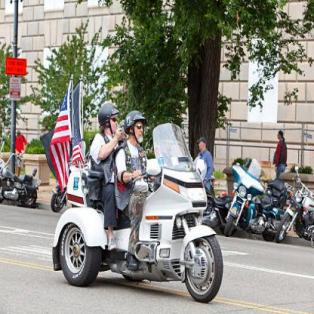Motocicleta: (51, 153, 226, 304)
